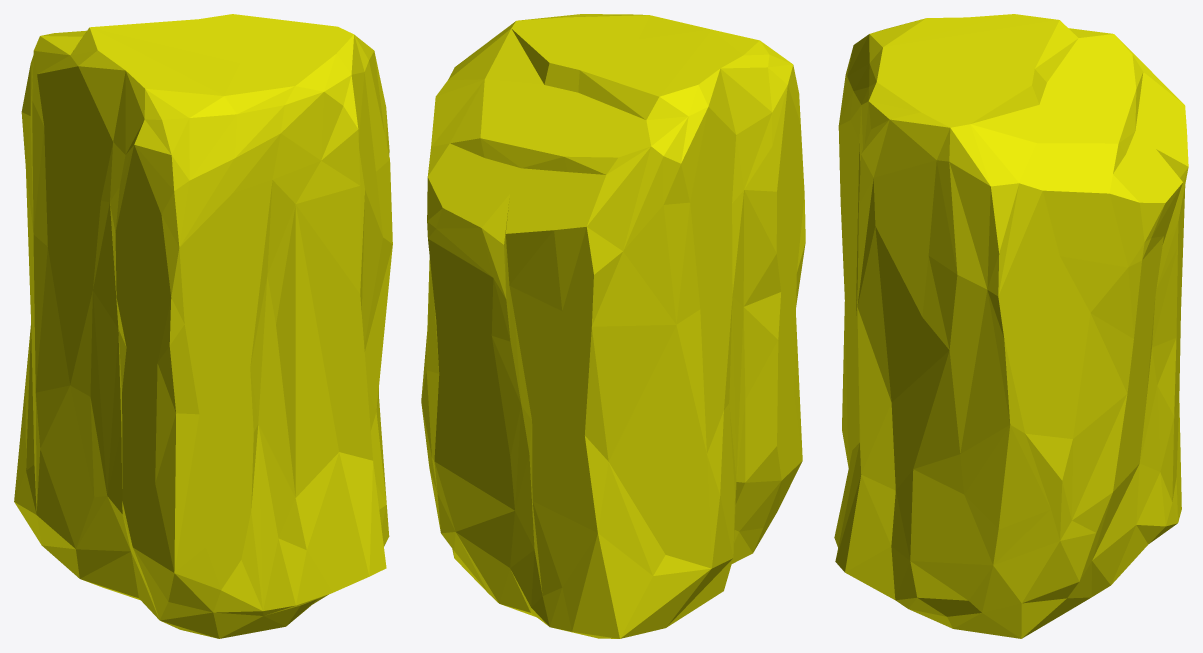
The model's file is trp_cliff1.glb.
The picture shows the model from 3 angles, left to right: view 1: azimuth 30°, elevation 25°; view 2: azimuth 150°, elevation 25°; view 3: azimuth 270°, elevation 25°; orthographic projection. The views are drawn at different scales.
Visible parts, largest first — view 1: SM_Env_Rock_Cliff_01; view 2: SM_Env_Rock_Cliff_01; view 3: SM_Env_Rock_Cliff_01.
Boxes of the visible parts, x1=… form: SM_Env_Rock_Cliff_01: x1=14, y1=14, x2=392, y2=638; SM_Env_Rock_Cliff_01: x1=421, y1=14, x2=805, y2=638; SM_Env_Rock_Cliff_01: x1=834, y1=14, x2=1188, y2=638.
Size of the model in its own units: 5 by 8.12 by 5.07.
1 material, 1 textured.
